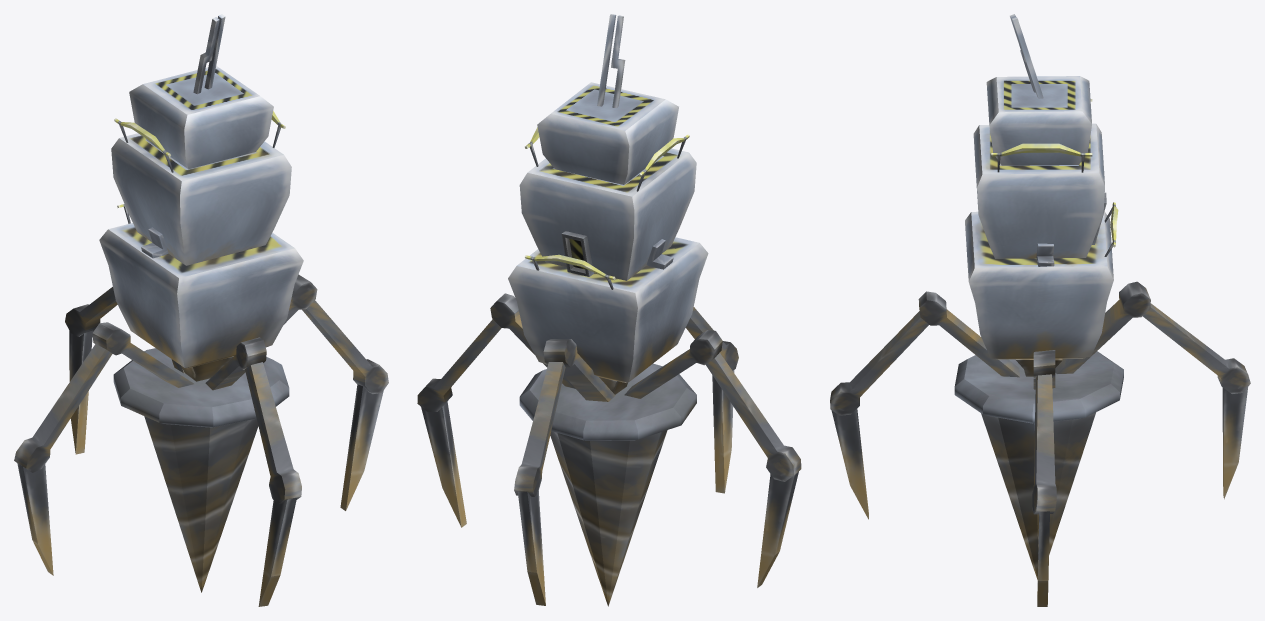
Rendered from DrillFBXExport.fbx.
3 views of the same model, side by side, from view 1: azimuth 30°, elevation 25°; view 2: azimuth 150°, elevation 25°; view 3: azimuth 270°, elevation 25° (orthographic). The views are drawn at different scales.
Parts seen in each view (by area): view 1: Drill; view 2: Drill; view 3: Drill.
Part boxes in pixels (bbox=[...]): Drill: bbox=[14, 14, 388, 606]; Drill: bbox=[417, 14, 801, 606]; Drill: bbox=[830, 14, 1250, 606].
Size of the model in its own units: 157 by 236 by 157.
Materials: 1 (1 with a texture image).
